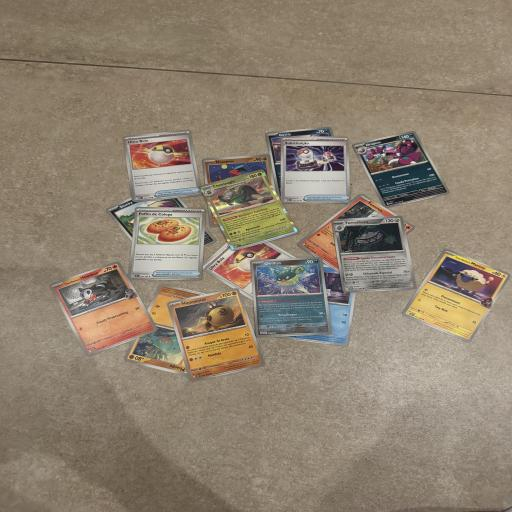card: (48, 248, 159, 366), (401, 242, 510, 347), (351, 114, 451, 223), (200, 156, 299, 264), (167, 281, 266, 387), (331, 208, 417, 301), (251, 254, 333, 340), (127, 207, 207, 281), (123, 129, 202, 203), (280, 137, 350, 204)
